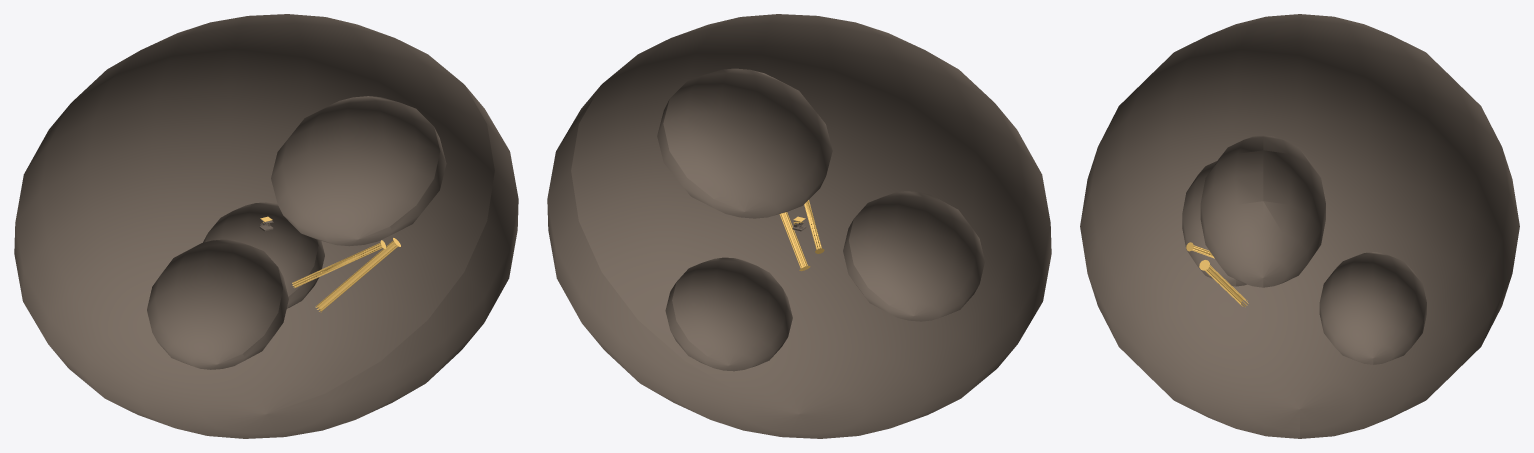
Rendered from _place_asteroid_seamed_elite_export.glb.
3 renders of one model, left to right at view 1: azimuth 30°, elevation 25°; view 2: azimuth 150°, elevation 25°; view 3: azimuth 270°, elevation 25°, orthographic. The views are drawn at different scales.
Visible parts, largest first — view 1: place_asteroid_seamed_Material_Hull_Merged, place_asteroid_seamed_Material_Accent_Merged; view 2: place_asteroid_seamed_Material_Hull_Merged, place_asteroid_seamed_Material_Accent_Merged; view 3: place_asteroid_seamed_Material_Hull_Merged, place_asteroid_seamed_Material_Accent_Merged.
Part boxes in pixels (x1,y1,x2,y2): place_asteroid_seamed_Material_Hull_Merged: (14, 14, 518, 438); place_asteroid_seamed_Material_Accent_Merged: (292, 238, 400, 312); place_asteroid_seamed_Material_Hull_Merged: (547, 14, 1051, 438); place_asteroid_seamed_Material_Accent_Merged: (779, 200, 824, 271); place_asteroid_seamed_Material_Hull_Merged: (1080, 14, 1519, 438); place_asteroid_seamed_Material_Accent_Merged: (1186, 242, 1248, 307).
Size of the model in its own units: 28 by 22 by 24.
